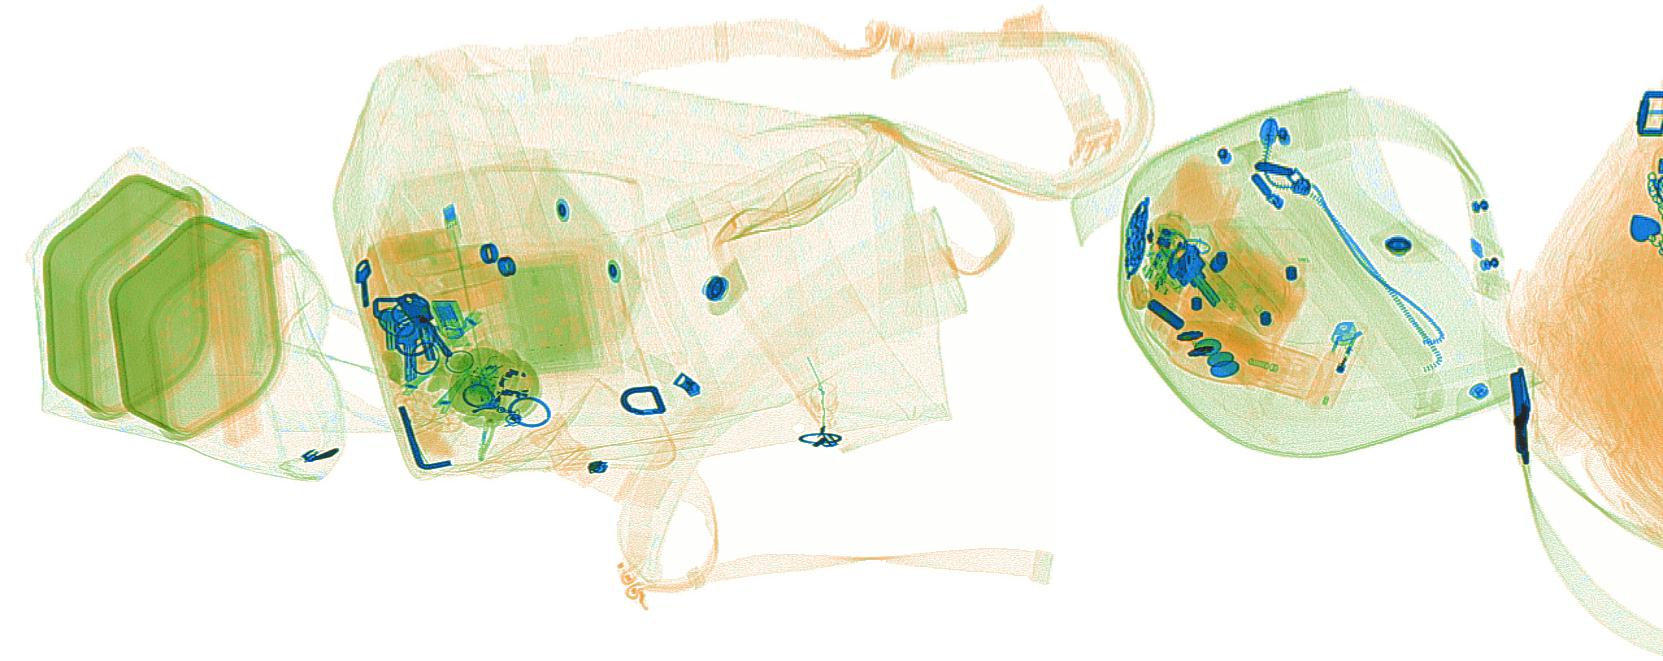USBFlashDisk: (430, 299, 471, 349)
lighter: (1301, 318, 1363, 408)
plasticBottleWithaNozzle: (1168, 318, 1320, 399)
